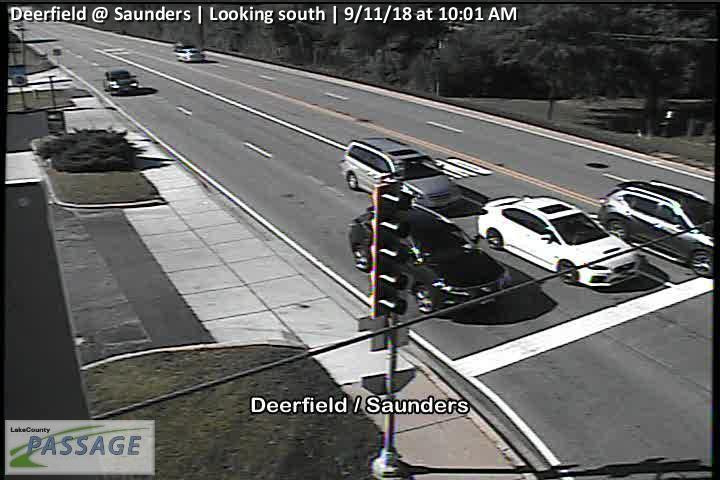SUV: (347, 199, 512, 315), (597, 179, 720, 278), (340, 138, 461, 212), (103, 68, 139, 96)
Sedan: (476, 194, 640, 288), (173, 48, 203, 62)
